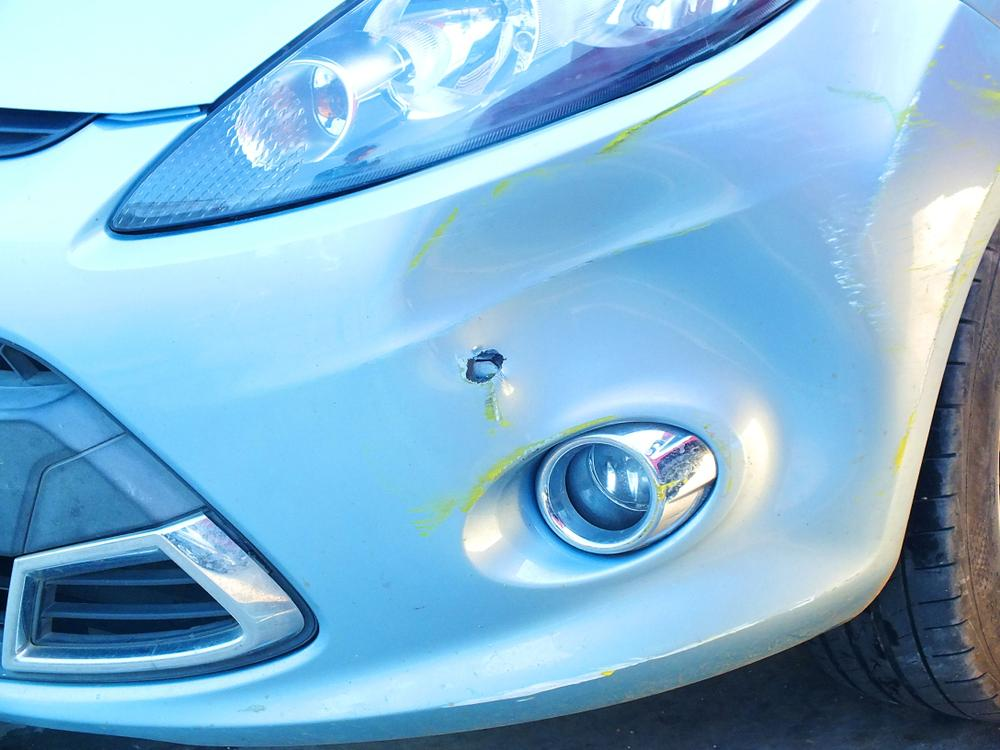dent: (411, 149, 888, 586)
scratch: (594, 34, 1000, 481), (419, 385, 623, 544)
